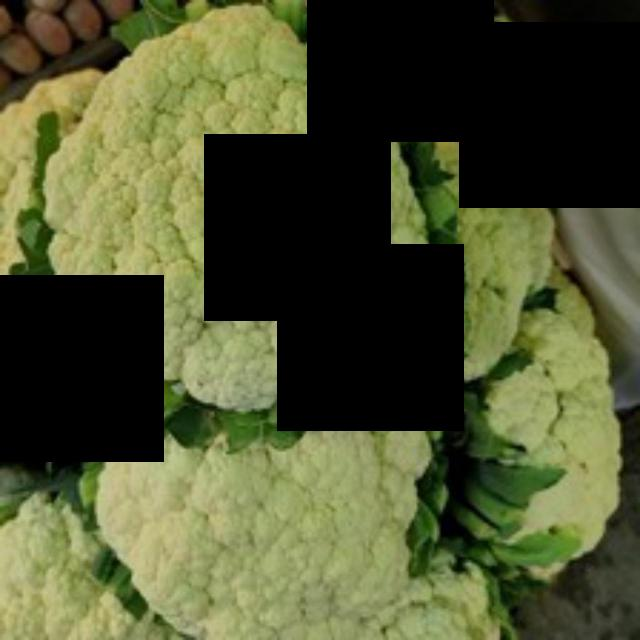cauliflower: (39, 12, 438, 406)
